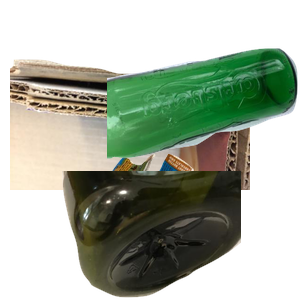cardboard: (10, 57, 250, 237)
glass: (107, 46, 300, 197)
plastic: (60, 171, 300, 300)
trash: (97, 151, 283, 300)
